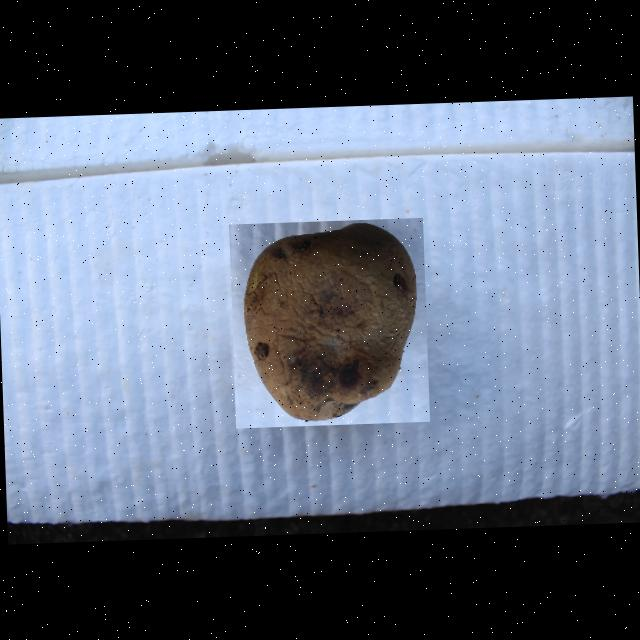Diseased-fungal potato: (228, 217, 430, 428)
